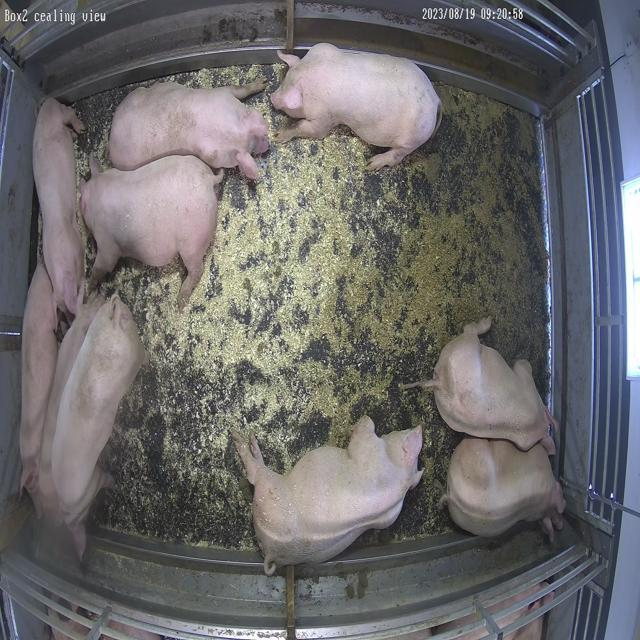Dirt: (282, 86, 549, 540)
Pig: (234, 417, 423, 576), (50, 295, 145, 552), (80, 155, 223, 308), (271, 43, 442, 170), (426, 318, 556, 456), (32, 296, 104, 520), (108, 80, 268, 178), (445, 439, 567, 542), (32, 97, 83, 314), (20, 263, 57, 492)
